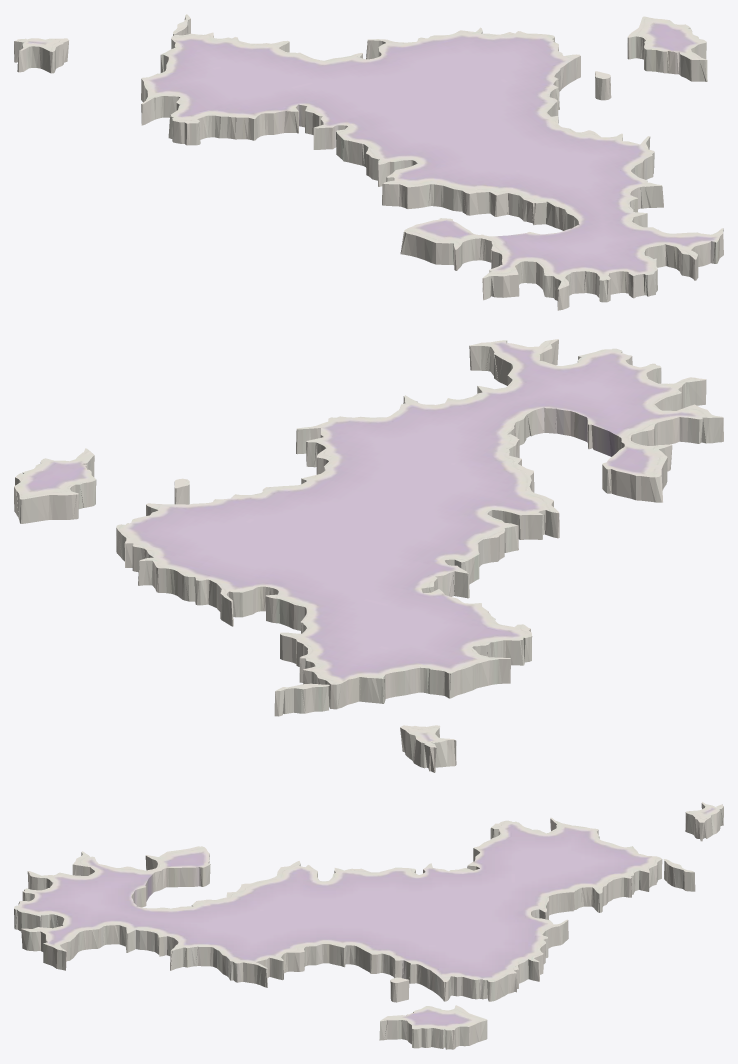
File: mayotte.glb
3 views of the same model, one above another, from view 1: azimuth 30°, elevation 25°; view 2: azimuth 150°, elevation 25°; view 3: azimuth 270°, elevation 25° (orthographic). The views are drawn at different scales.
Parts seen in each view (by area): view 1: tripo_node_fc1b00ab-14ca-43e5-81b6-73ce6a340a09; view 2: tripo_node_fc1b00ab-14ca-43e5-81b6-73ce6a340a09; view 3: tripo_node_fc1b00ab-14ca-43e5-81b6-73ce6a340a09.
Boxes of the visible parts, <box> form: tripo_node_fc1b00ab-14ca-43e5-81b6-73ce6a340a09: <box>14,14,723,310</box>; tripo_node_fc1b00ab-14ca-43e5-81b6-73ce6a340a09: <box>14,339,723,772</box>; tripo_node_fc1b00ab-14ca-43e5-81b6-73ce6a340a09: <box>14,802,723,1049</box>.
Size of the model in its own units: 0.7632 by 0.03 by 1.
Materials: 1 (1 with a texture image).
